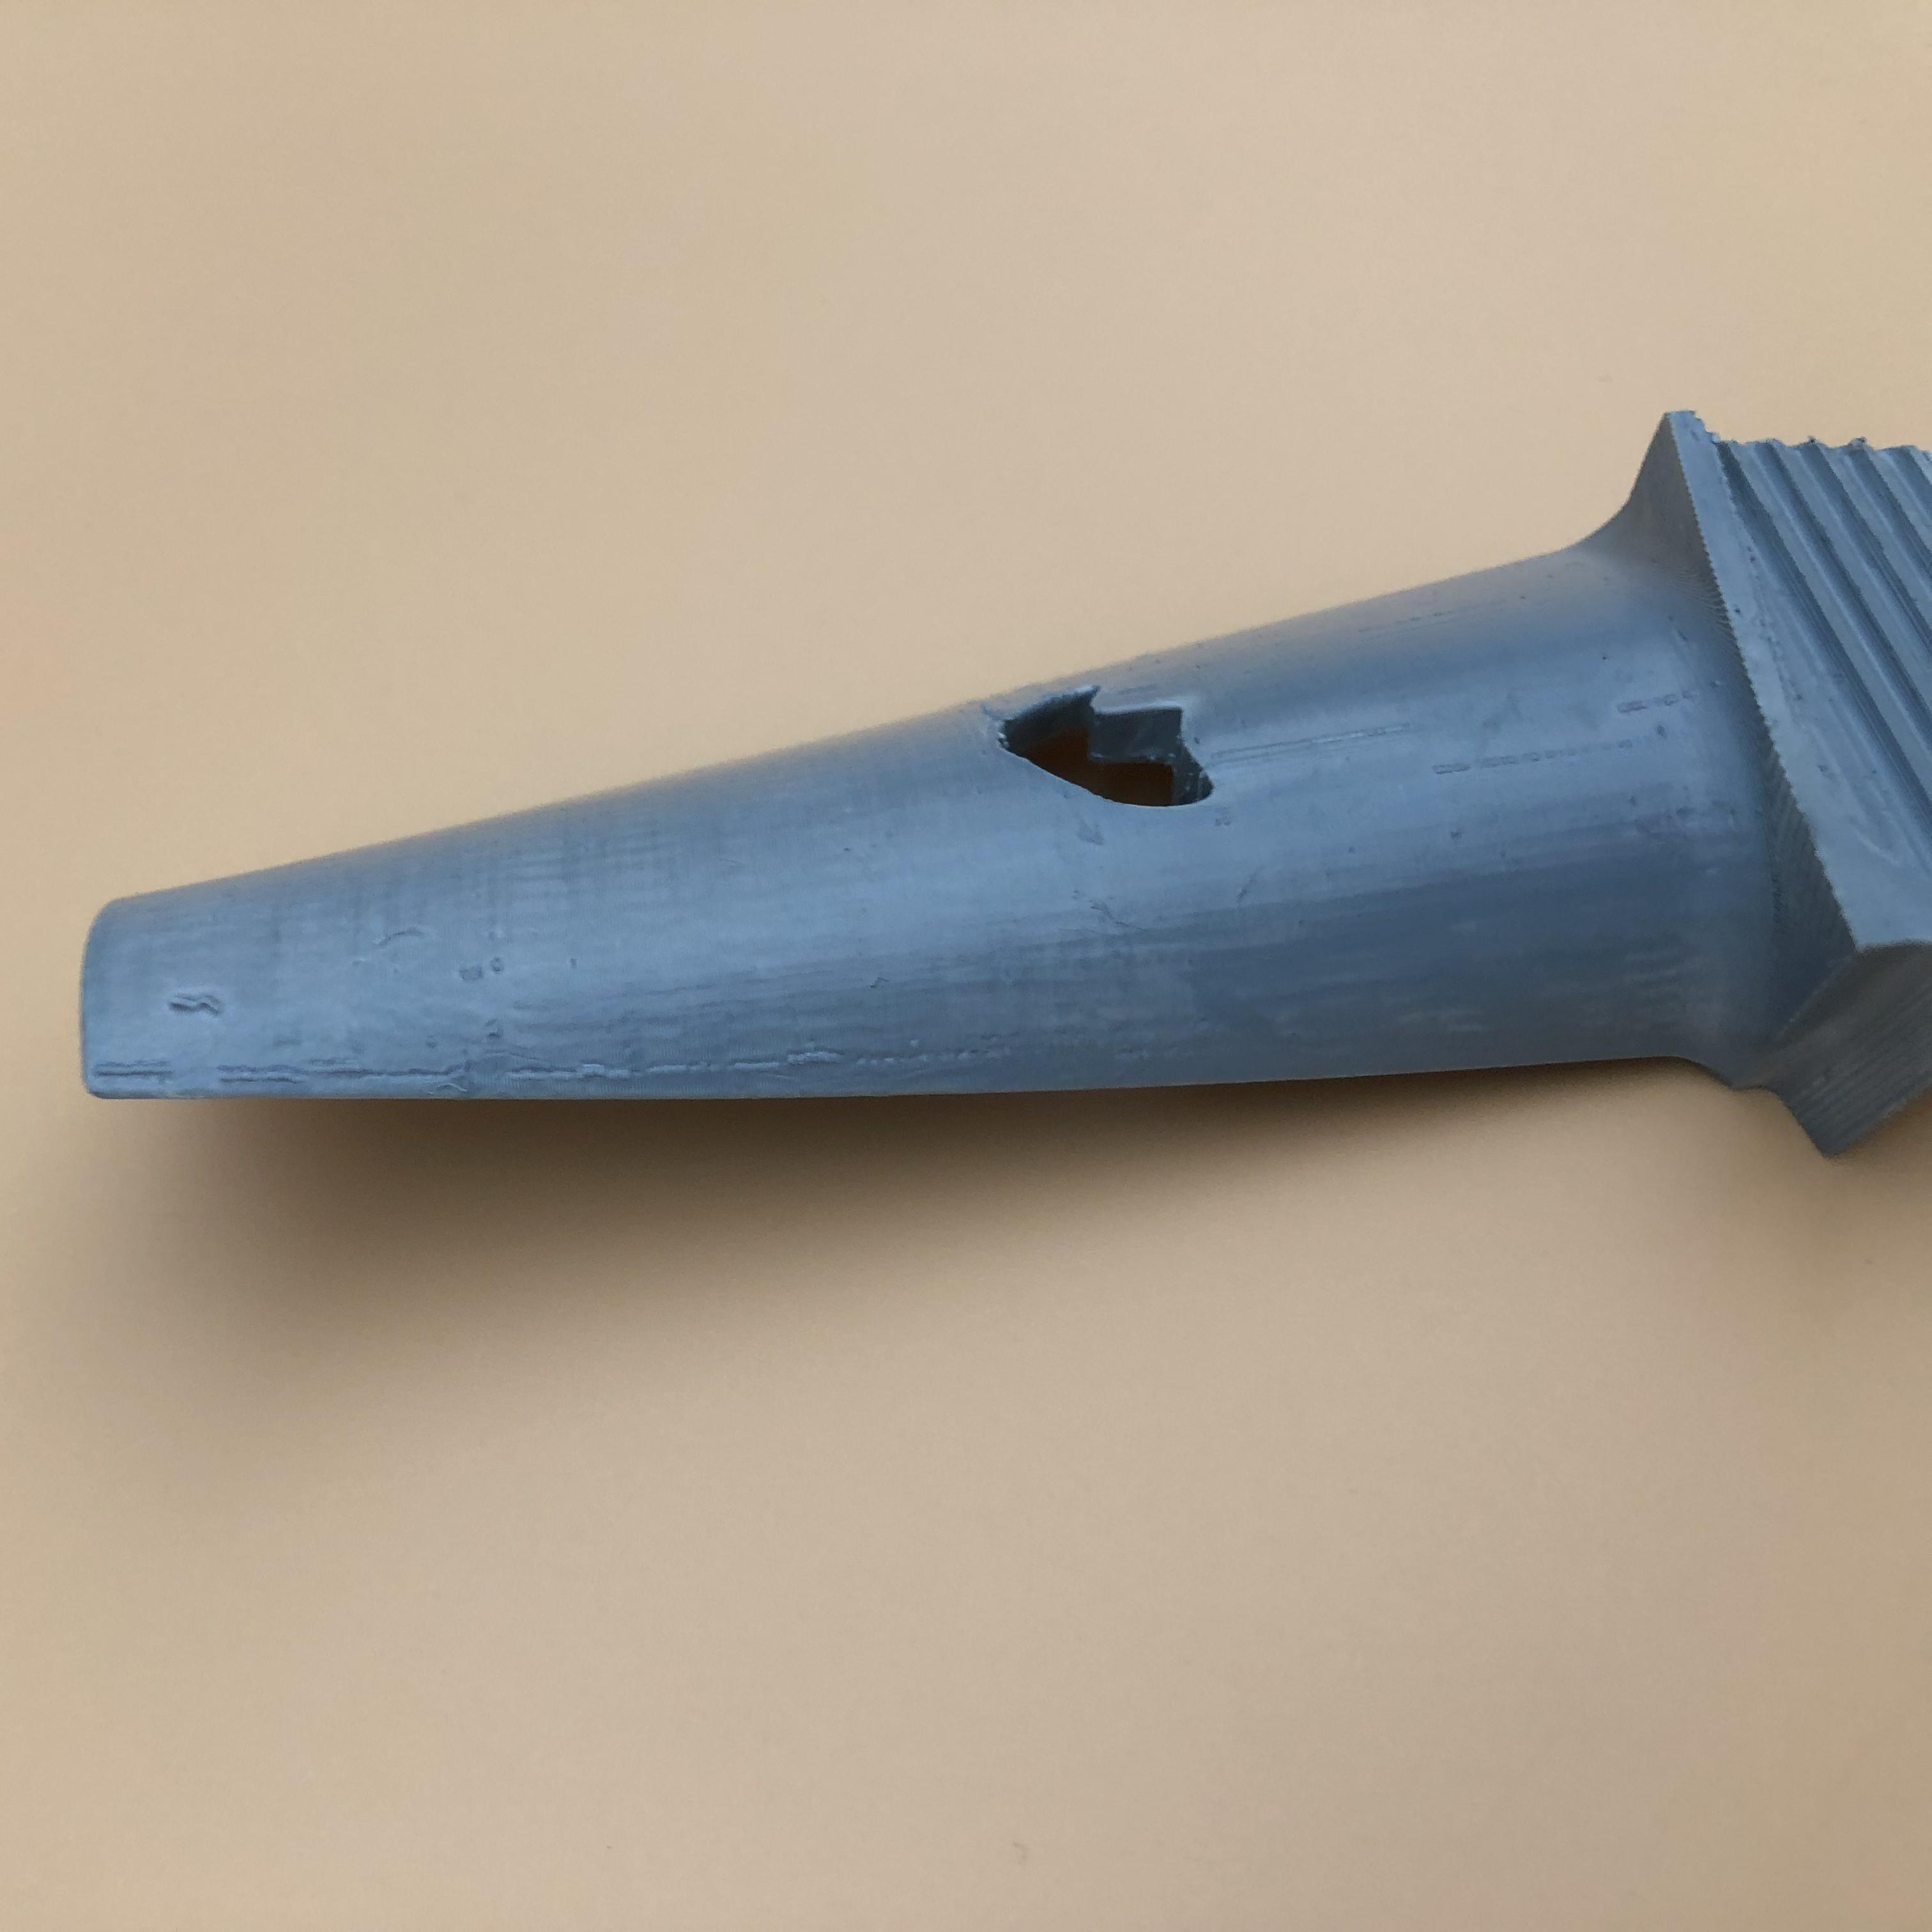breakdown: (998, 679, 1228, 814)
